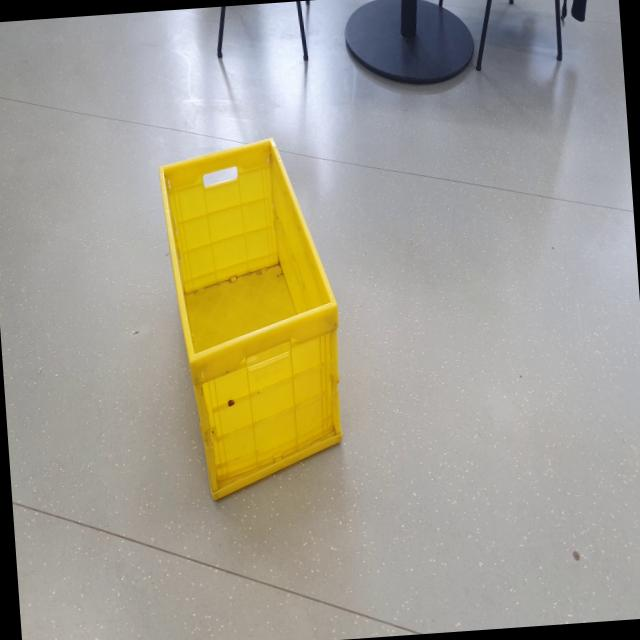box: (150, 128, 357, 508)
